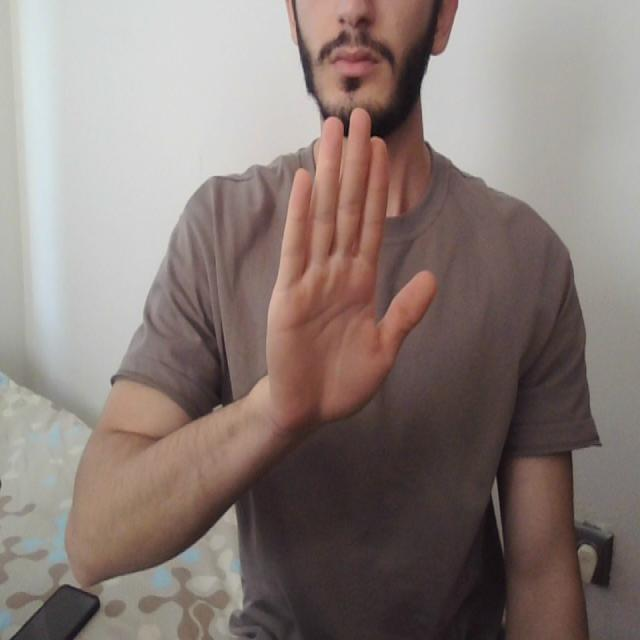Dur: (256, 100, 442, 430)
